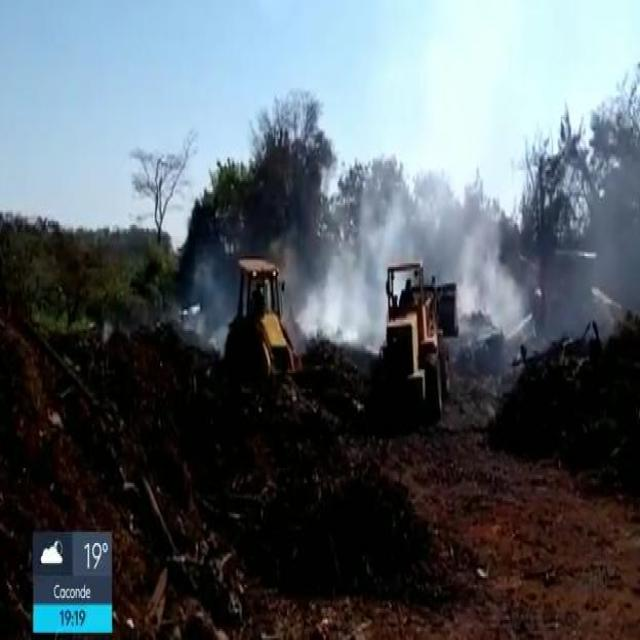Smoke: (300, 161, 538, 360), (570, 136, 635, 337), (177, 267, 229, 355)
